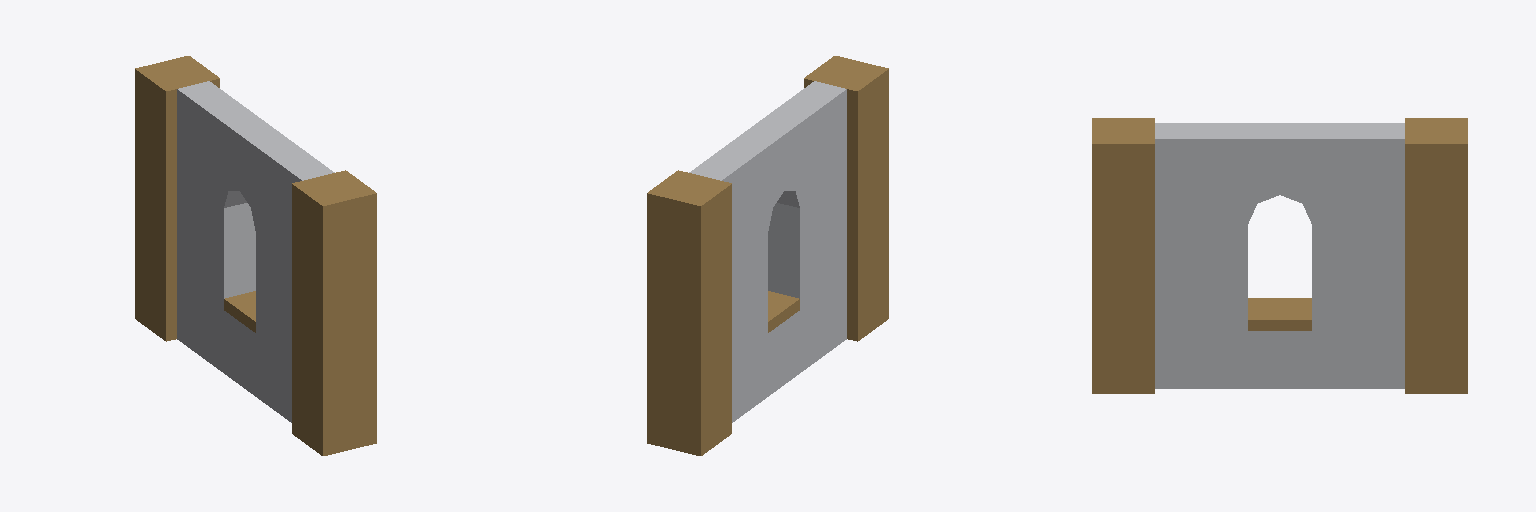
3 renders of one model, left to right at view 1: azimuth 30°, elevation 25°; view 2: azimuth 150°, elevation 25°; view 3: azimuth 270°, elevation 25°, orthographic.
Visible parts, largest first — view 1: Mesh1 Wood_Window_Round_Sill Model; view 2: Mesh1 Wood_Window_Round_Sill Model; view 3: Mesh1 Wood_Window_Round_Sill Model.
Boxes of the visible parts, <box> form: Mesh1 Wood_Window_Round_Sill Model: <box>135,56,376,455</box>; Mesh1 Wood_Window_Round_Sill Model: <box>647,56,888,455</box>; Mesh1 Wood_Window_Round_Sill Model: <box>1092,118,1467,393</box>.
Bounding box in the file's own units: 0.1667 × 0.7333 × 1.